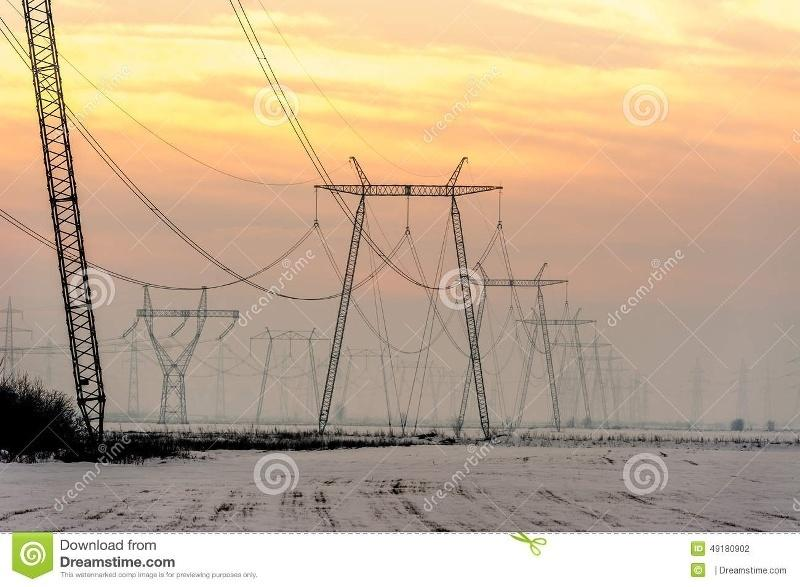power_tower: (298, 175, 488, 432), (131, 285, 227, 429)
